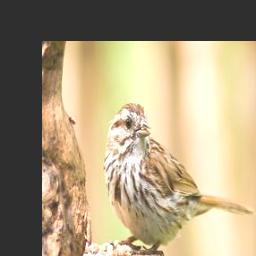Sparrow: (103, 100, 255, 256)
